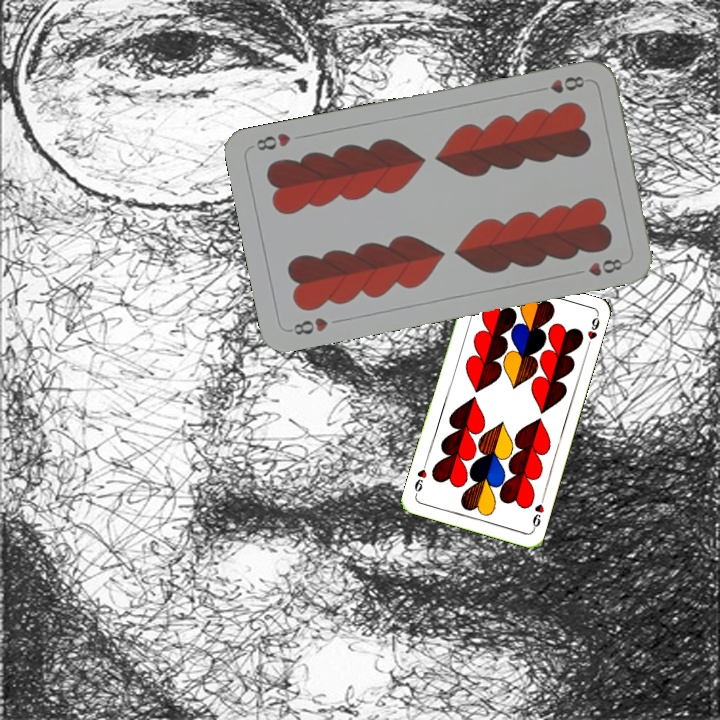H8: (285, 313, 331, 338), (546, 72, 591, 96)
H9: (528, 493, 547, 533)
